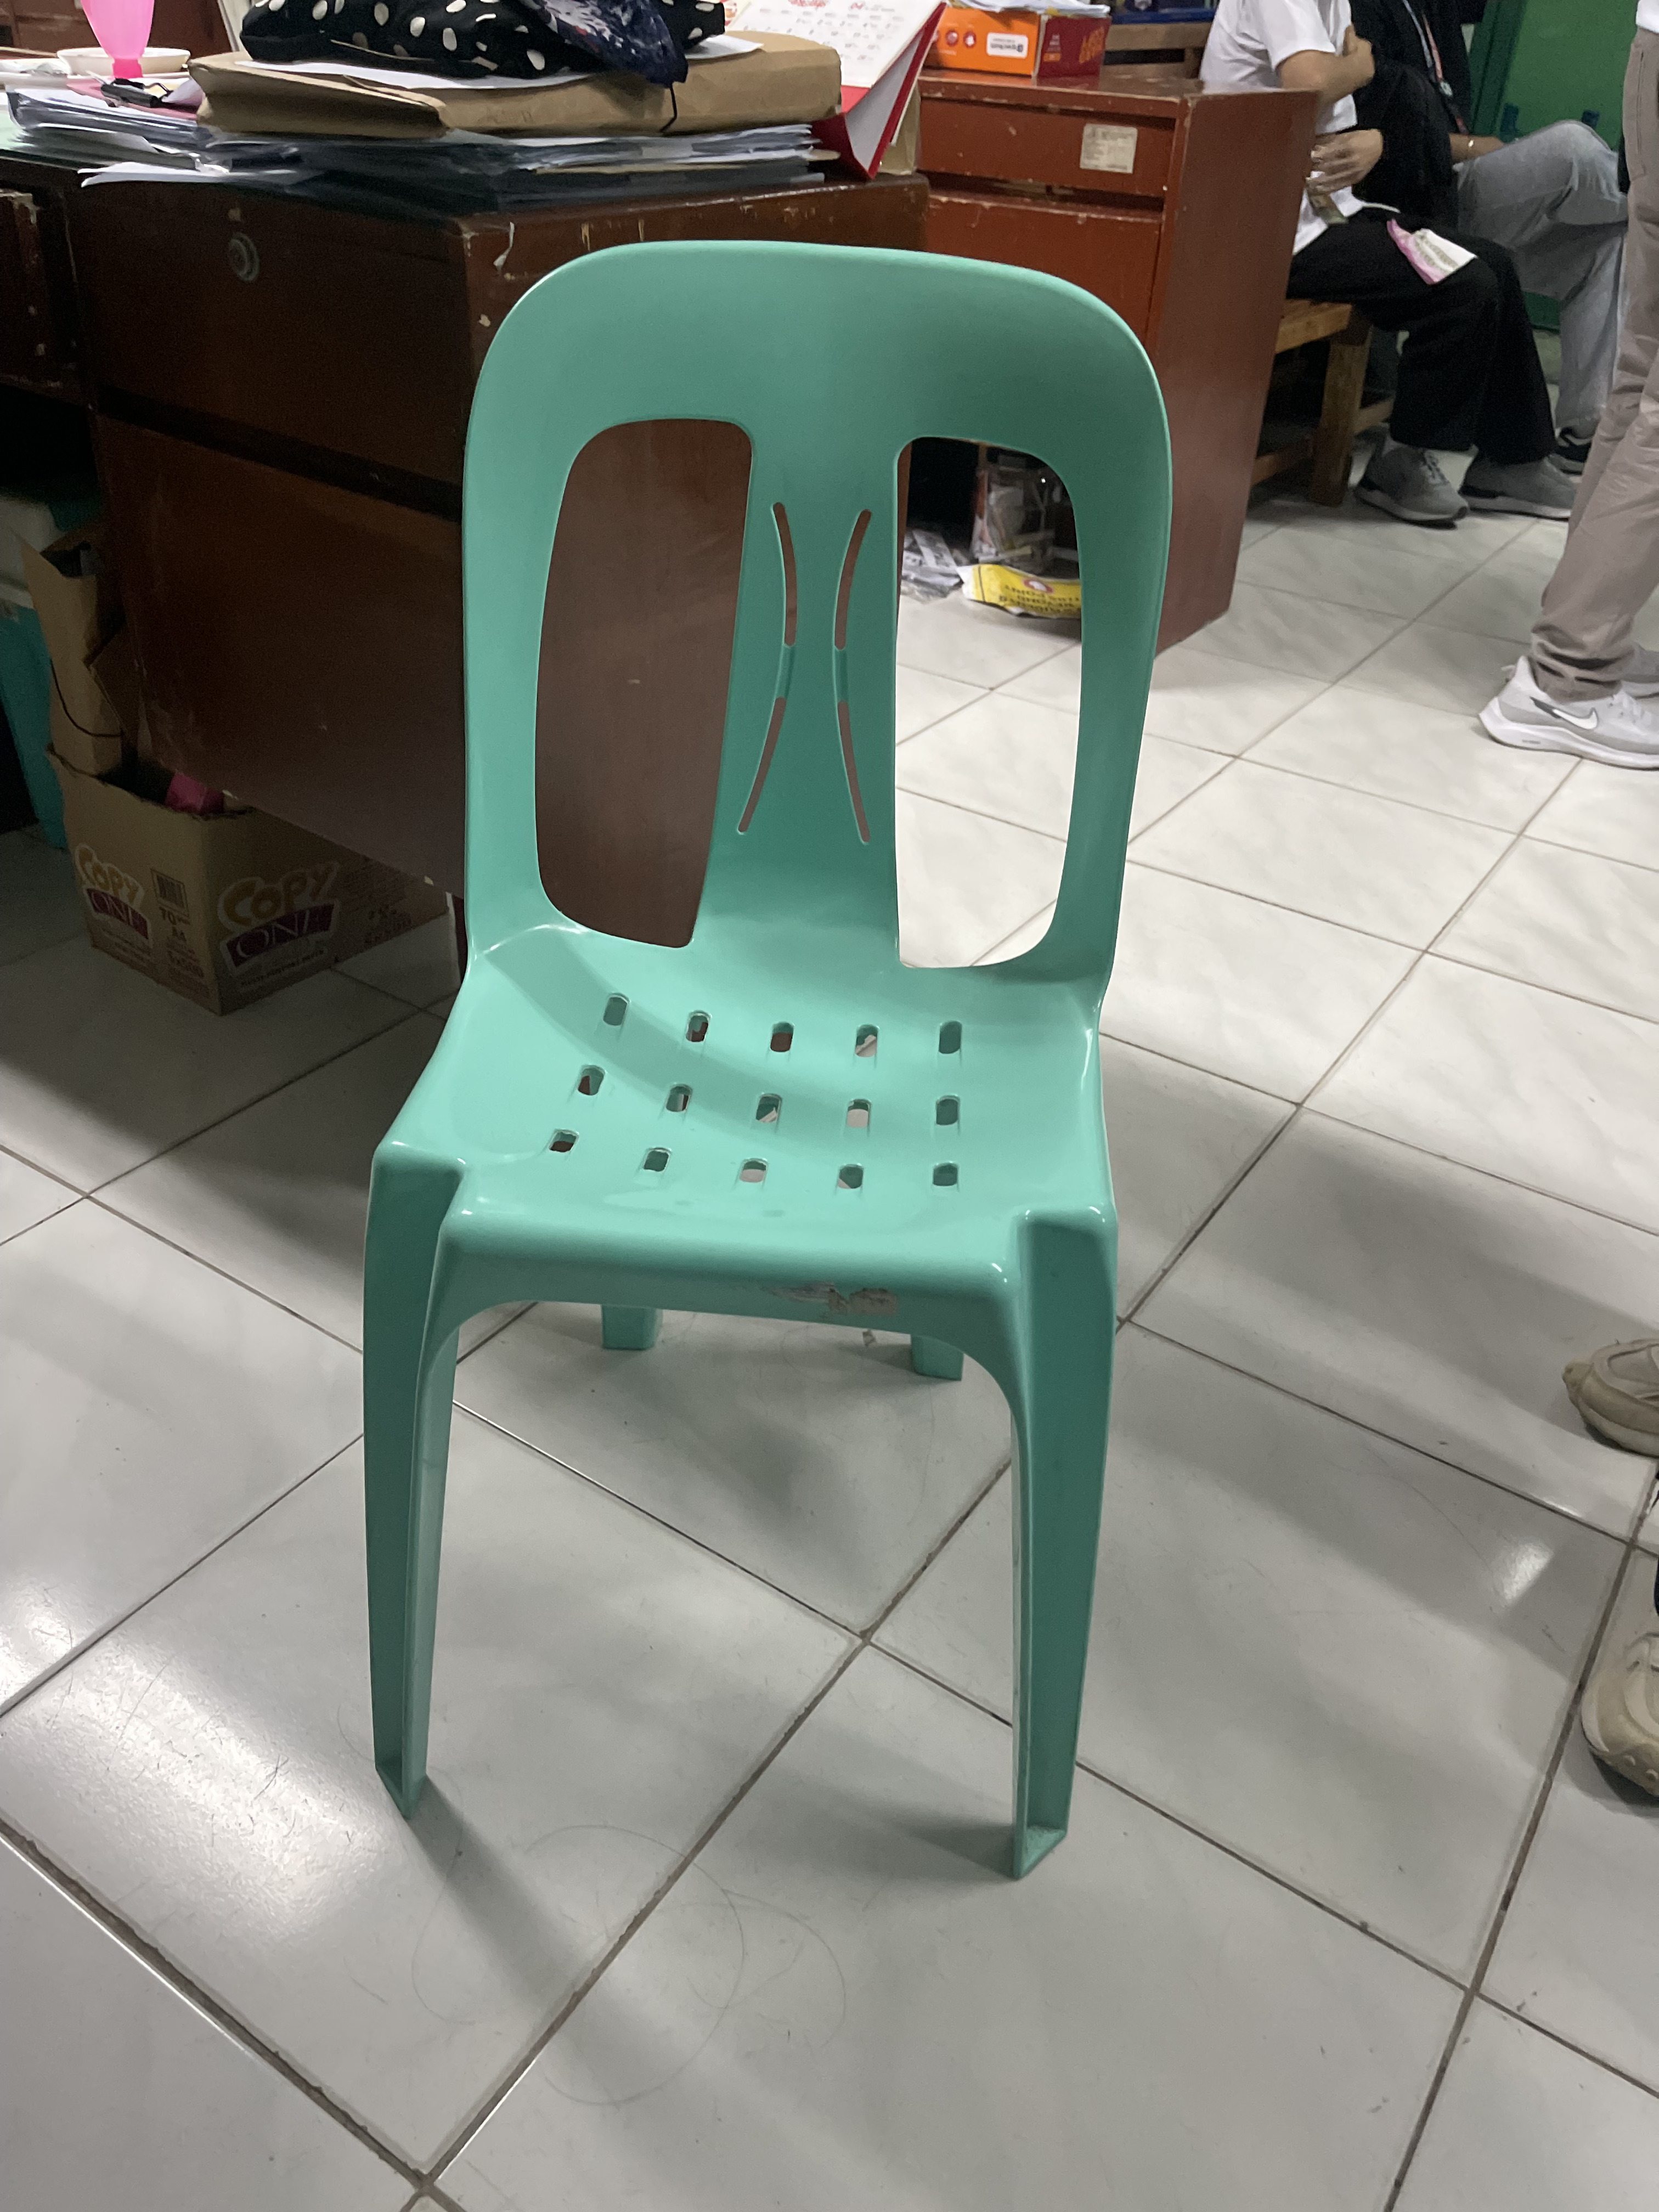chair2: (347, 230, 1192, 1886)
